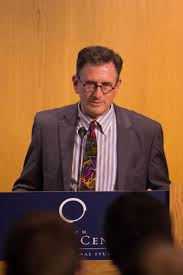middle_eastern_male: (73, 48, 123, 116)
